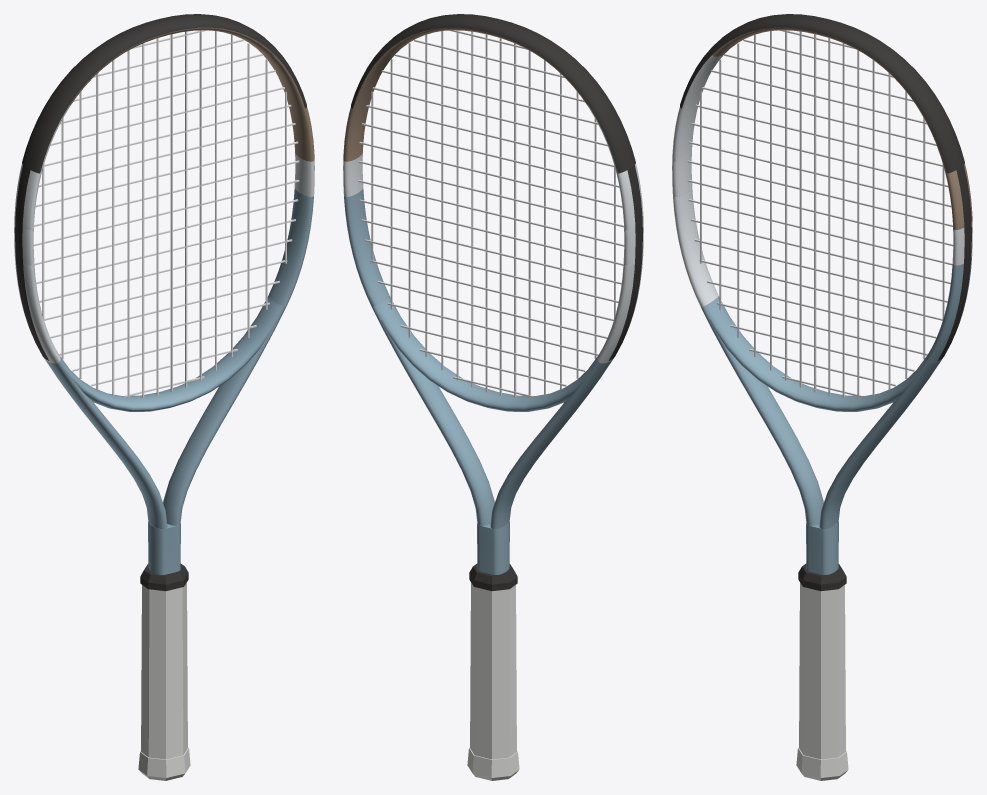
File: dunlop-lx-team-107-2024.glb
3 views of the same model, side by side, from view 1: azimuth 30°, elevation 25°; view 2: azimuth 150°, elevation 25°; view 3: azimuth 330°, elevation 25° (orthographic).
Visible parts, largest first — view 1: frame, strings_mains, strings_crosses, grip, bumper, grommets, butt_cap, collar; view 2: frame, strings_mains, strings_crosses, grip, bumper, grommets, butt_cap, collar; view 3: frame, strings_mains, strings_crosses, grip, bumper, grommets, butt_cap, collar.
Boxes of the visible parts, x1,y1,x2,y2 form: frame: (14,27,314,574); strings_mains: (42,30,286,398); strings_crosses: (33,30,299,397); grip: (141,582,187,759); bumper: (22,14,306,173); grommets: (15,165,49,360); butt_cap: (138,747,190,780); collar: (140,563,188,591); frame: (343,27,643,574); strings_mains: (371,30,615,397); strings_crosses: (358,30,624,397); grip: (470,582,516,759); bumper: (351,14,635,173); grommets: (608,165,642,360); butt_cap: (467,747,519,780); collar: (469,563,517,591); frame: (672,27,972,574); strings_mains: (700,30,944,398); strings_crosses: (687,30,953,397); grip: (799,582,845,759); bumper: (680,14,964,173); grommets: (937,165,971,360); butt_cap: (796,747,848,780); collar: (798,563,846,591).
Size of the model in its own units: 0.2801 by 0.6861 by 0.0377.
